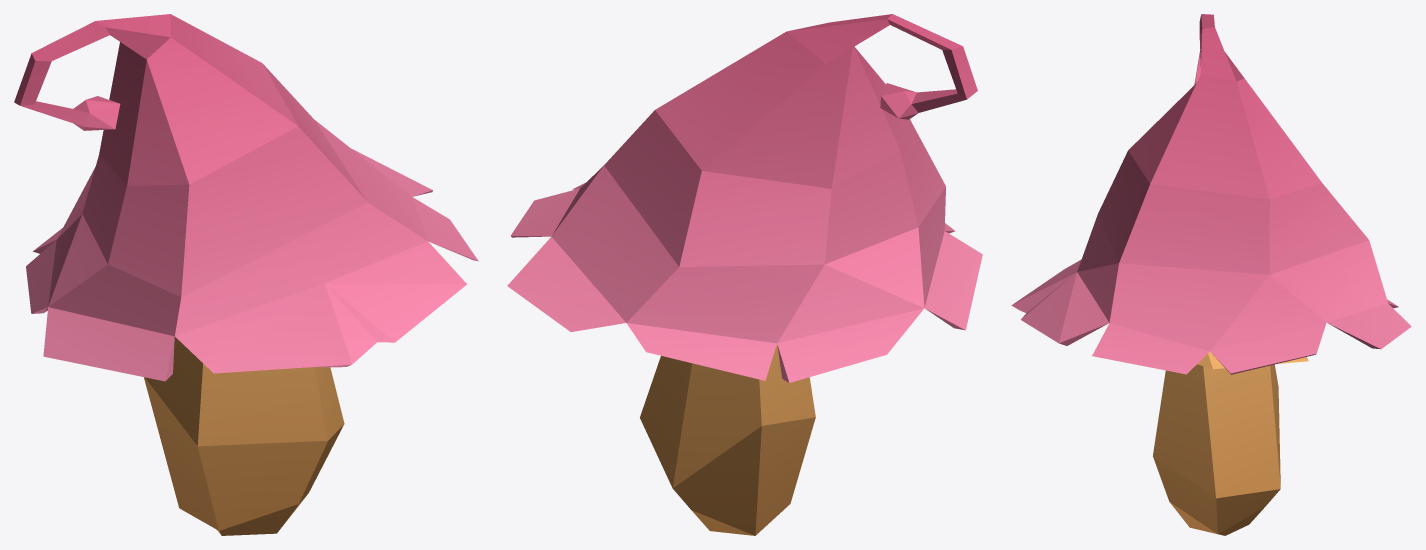
The model's file is mushroom_pink_giant.fbx.
3 renders of one model, left to right at view 1: azimuth 30°, elevation 25°; view 2: azimuth 150°, elevation 25°; view 3: azimuth 270°, elevation 25°, orthographic. The views are drawn at different scales.
Parts seen in each view (by area): view 1: mushroom_pink_giant; view 2: mushroom_pink_giant; view 3: mushroom_pink_giant.
Boxes of the visible parts, x1=… form: mushroom_pink_giant: x1=14, y1=14, x2=478, y2=535; mushroom_pink_giant: x1=507, y1=14, x2=982, y2=535; mushroom_pink_giant: x1=1011, y1=14, x2=1411, y2=535.
Bounding box in the file's own units: 2.75 × 3.3 × 2.75.
1 material, 1 textured.
